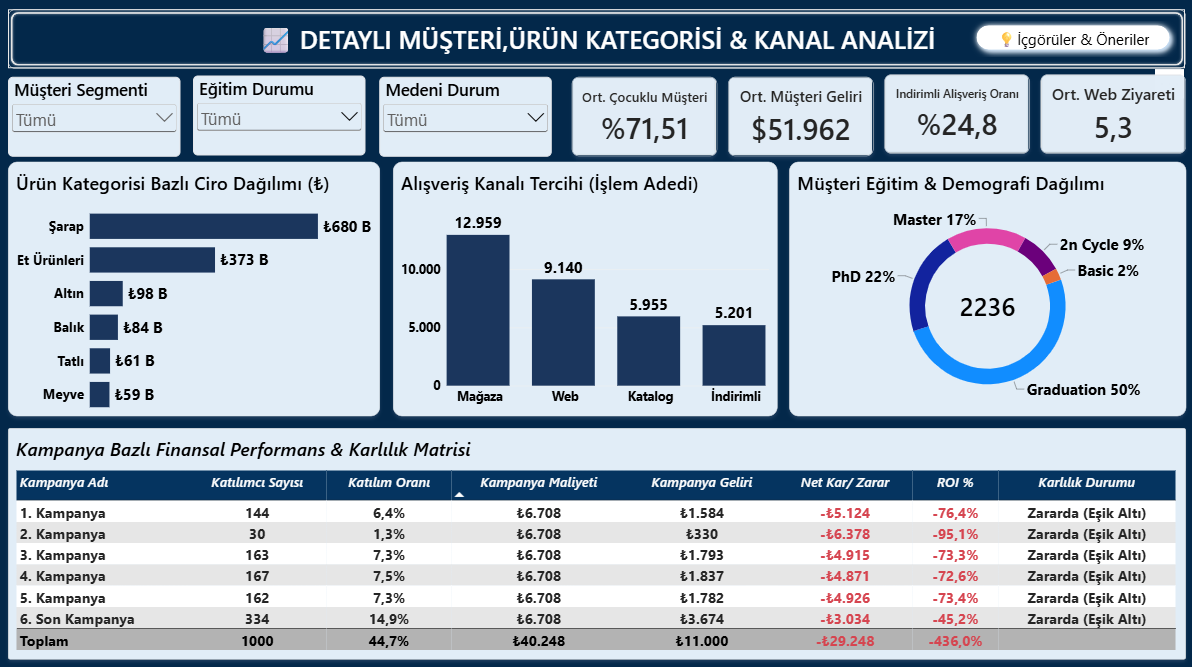

This screenshot's page, from the dashboard's own definition file:
{"tool":"powerbi","page":{"name":"3.sayfa","canvas":[1920,1080],"ordinal":1},"visuals":[{"type":"tableEx","title":"Kampanya Bazlı Finansal Performans & Karlılık Matrisi","fields":{"Values":["vw_Campaign_ROI.Kampanya_Adi","Sum(vw_Campaign_ROI.Kabul_Eden_Kisi)","Sum(vw_Campaign_ROI.Katilim_Orani_Yuzde)","Sum(vw_Campaign_ROI.Kampanya_Iletisim_Maliyeti)","Sum(vw_Campaign_ROI.Kampanya_Geliri)","Sum(vw_Campaign_ROI.Kampanya_Net_Kar)","Sum(vw_Campaign_ROI.Kampanya_ROI_Yuzde)","vw_Campaign_ROI.Karlilik_Durumu"]},"box":[15,687.5,1885,370],"z":0},{"type":"cardVisual","fields":{"Data":["Avg(vw_Customer_RFM.Income)"]},"box":[1167.5,125,232.5,127.5],"z":1000},{"type":"cardVisual","fields":{"Data":["Avg(vw_Genel_KPI.Indirimli_Oran)"]},"box":[1417.5,122.5,232.5,127.5],"z":2000},{"type":"shape","box":[15,17.5,1885,95],"z":3000},{"type":"cardVisual","fields":{"Data":["Avg(vw_Customer_RFM.NumWebVisitsMonth)"]},"box":[1667.5,122.5,232.5,127.5],"z":4000},{"type":"clusteredColumnChart","title":"Alışveriş Kanalı Tercihi (İşlem Adedi)","fields":{"Category":["vw_Kanal_Tercihleri.Kanal"],"Y":["Sum(vw_Kanal_Tercihleri.Islem_Adedi)"]},"box":[632.5,262.5,615,407.5],"z":5000},{"type":"slicer","fields":{"Values":["vw_Customer_RFM.Marital_Status"]},"box":[610,125,276,128],"z":6000},{"type":"slicer","fields":{"Values":["vw_Customer_RFM.Education"]},"box":[312,124,276,128],"z":7000},{"type":"slicer","fields":{"Values":["vw_Customer_RFM.Customer_Segment"]},"box":[15,125,276,128],"z":8000},{"type":"cardVisual","fields":{"Data":["Avg(vw_Genel_KPI.Cocuklu_Mu)"]},"box":[917.5,125,232.5,127.5],"z":9000},{"type":"clusteredBarChart","title":"Ürün Kategorisi Bazlı Ciro Dağılımı (₺)","fields":{"Category":["vw_Urun_Kategorileri.Kategori"],"Y":["Sum(vw_Urun_Kategorileri.Harcama)"]},"box":[15,262.5,595,407.5],"z":10000},{"type":"donutChart","title":"Müşteri Eğitim & Demografi Dağılımı","fields":{"Category":["vw_Customer_RFM.Education"],"Y":["CountNonNull(vw_Customer_RFM.ID)"]},"box":[1265,262.5,635,407.5],"z":11000},{"type":"actionButton","box":[1554,32,332,62],"z":12000}]}

Visuals, with their boxes in screenshot pixels (x1, y1, x2, y2), scaled from the page's 1920x1080 canvas onto the 1192x667 screenshot:
"Kampanya Bazlı Finansal Performans & Karlılık Matrisi" tableEx: {"left": 9, "top": 425, "right": 1180, "bottom": 653}
cardVisual - Avg(vw_Customer_RFM.Income): {"left": 725, "top": 77, "right": 869, "bottom": 156}
cardVisual - Avg(vw_Genel_KPI.Indirimli_Oran): {"left": 880, "top": 76, "right": 1024, "bottom": 154}
shape: {"left": 9, "top": 11, "right": 1180, "bottom": 69}
cardVisual - Avg(vw_Customer_RFM.NumWebVisitsMonth): {"left": 1035, "top": 76, "right": 1180, "bottom": 154}
"Alışveriş Kanalı Tercihi (İşlem Adedi)" clusteredColumnChart: {"left": 393, "top": 162, "right": 774, "bottom": 414}
slicer - vw_Customer_RFM.Marital_Status: {"left": 379, "top": 77, "right": 550, "bottom": 156}
slicer - vw_Customer_RFM.Education: {"left": 194, "top": 77, "right": 365, "bottom": 156}
slicer - vw_Customer_RFM.Customer_Segment: {"left": 9, "top": 77, "right": 181, "bottom": 156}
cardVisual - Avg(vw_Genel_KPI.Cocuklu_Mu): {"left": 570, "top": 77, "right": 714, "bottom": 156}
"Ürün Kategorisi Bazlı Ciro Dağılımı (₺)" clusteredBarChart: {"left": 9, "top": 162, "right": 379, "bottom": 414}
"Müşteri Eğitim & Demografi Dağılımı" donutChart: {"left": 785, "top": 162, "right": 1180, "bottom": 414}
actionButton: {"left": 965, "top": 20, "right": 1171, "bottom": 58}
